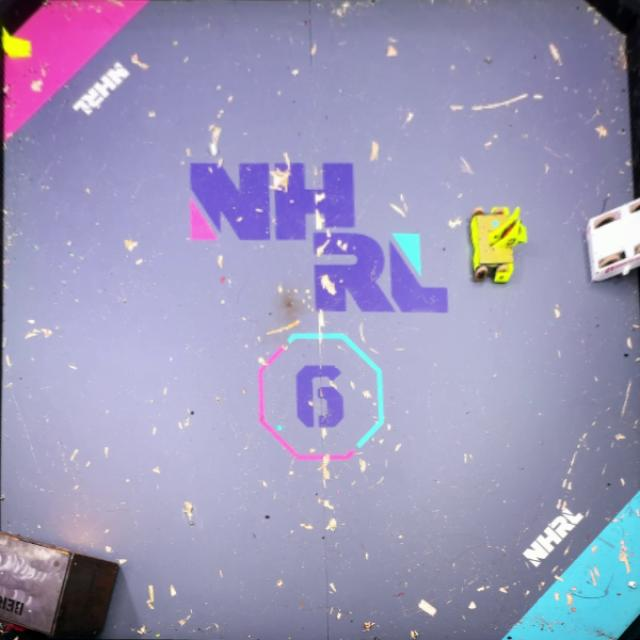housebot: (0, 532, 118, 640)
robot: (469, 206, 530, 285), (585, 196, 640, 282)
